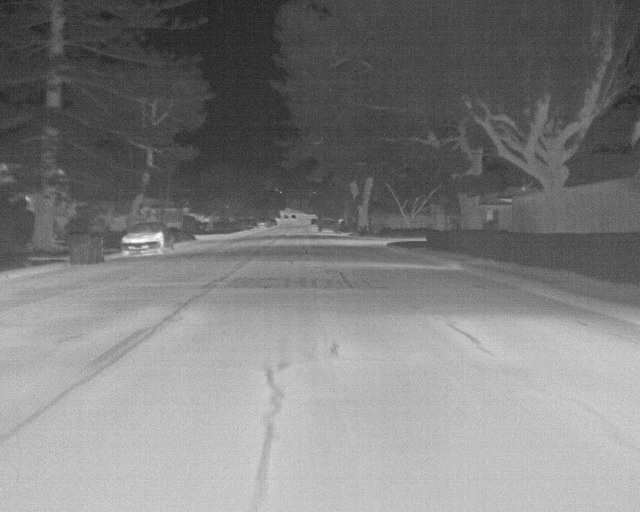vehicle: (121, 222, 177, 258)
